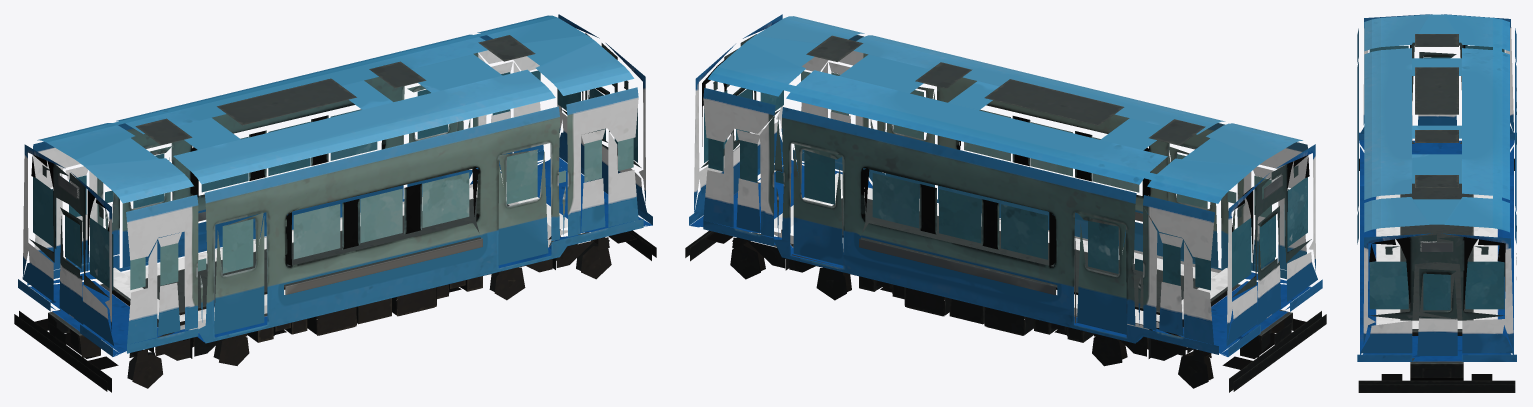
The model's file is train.glb.
3 views of the same model, side by side, from view 1: azimuth 30°, elevation 25°; view 2: azimuth 150°, elevation 25°; view 3: azimuth 270°, elevation 25° (orthographic). The views are drawn at different scales.
Visible parts, largest first — view 1: Plane_Material.001_0, Cube.004_Material.002_0; view 2: Plane_Material.001_0, Cube.004_Material.002_0; view 3: Plane_Material.001_0, Cube.004_Material.002_0.
Boxes of the visible parts, box(x1,y1,x2,y2) form: Plane_Material.001_0: box(18, 14, 652, 356); Cube.004_Material.002_0: box(14, 197, 656, 392); Plane_Material.001_0: box(689, 14, 1322, 356); Cube.004_Material.002_0: box(685, 182, 1326, 392); Plane_Material.001_0: box(1357, 14, 1516, 361); Cube.004_Material.002_0: box(1358, 140, 1515, 392).
Size of the model in its own units: 11.29 by 4.22 by 3.42.
Materials: 2 (2 with a texture image).
